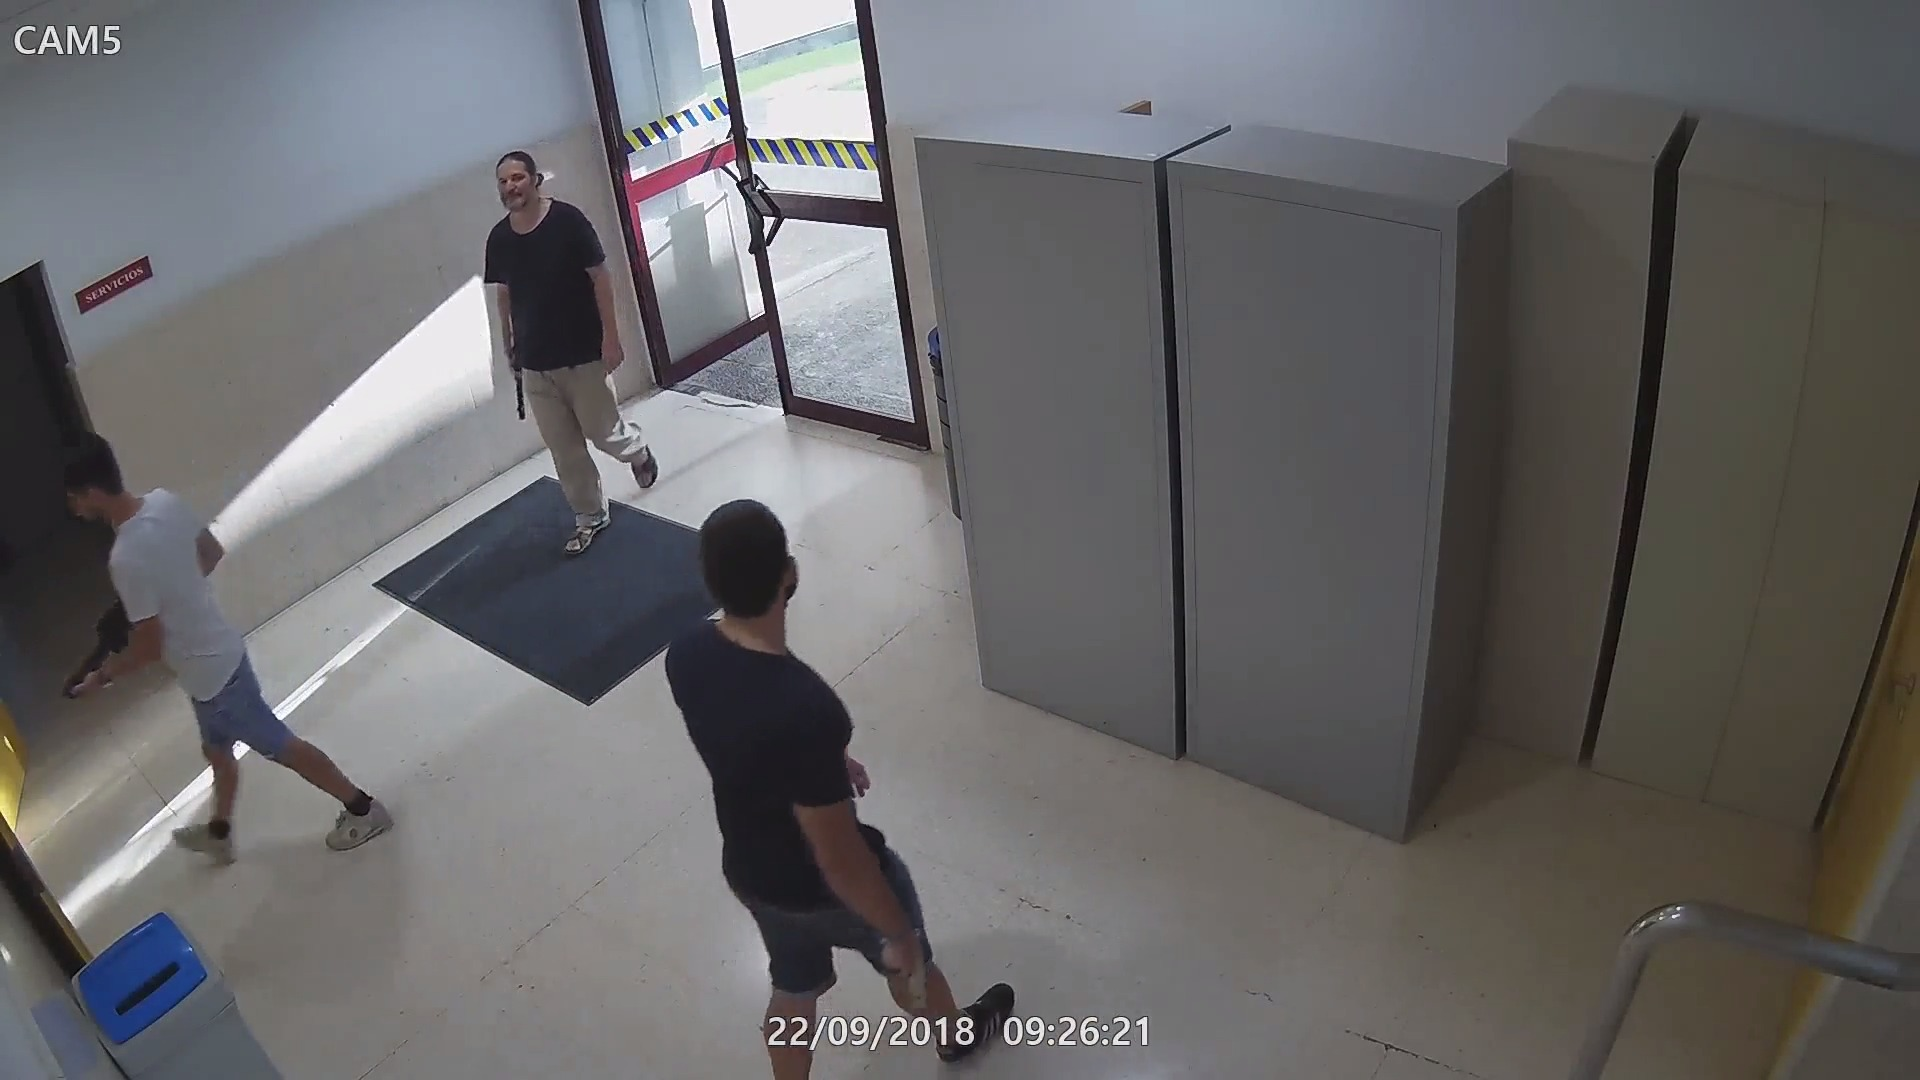Handgun: (884, 905, 953, 1011)
Short_rifle: (42, 609, 124, 707), (497, 302, 524, 430)
